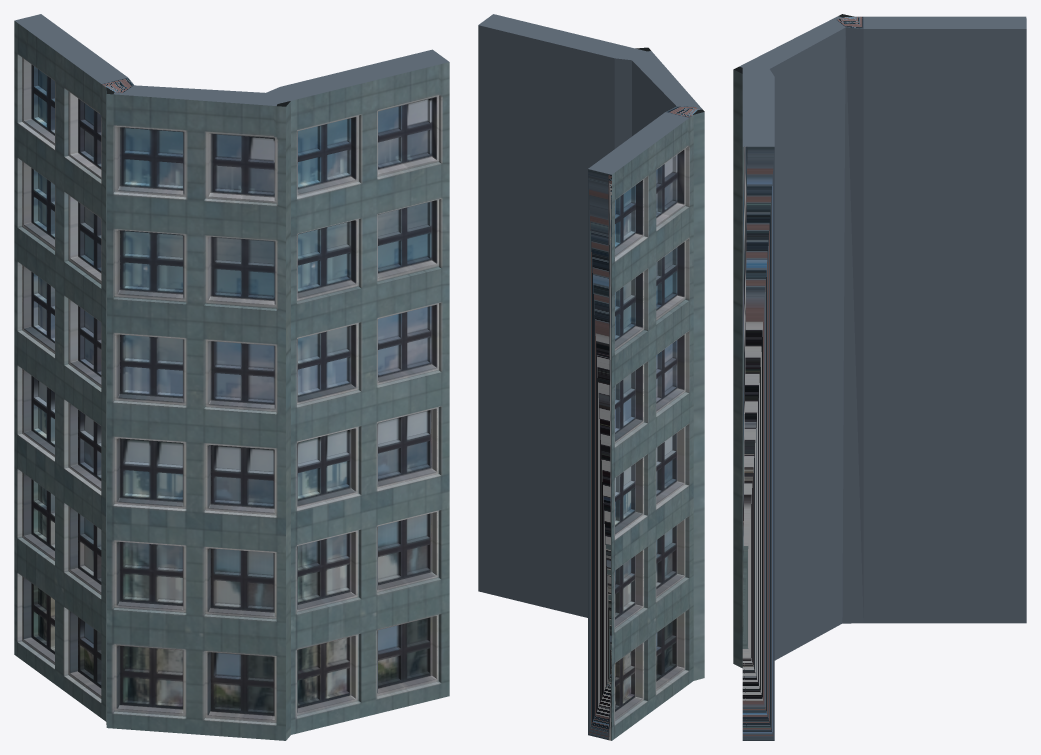
The model's file is facade_corner2.fbx.
The picture shows the model from 3 angles, left to right: view 1: azimuth 30°, elevation 25°; view 2: azimuth 150°, elevation 25°; view 3: azimuth 270°, elevation 25°; orthographic projection. The views are drawn at different scales.
Parts seen in each view (by area): view 1: facade_corner2; view 2: facade_corner2; view 3: facade_corner2.
Boxes of the visible parts, x1,y1,x2,y2 form: facade_corner2: (14,14,449,740); facade_corner2: (478,14,704,740); facade_corner2: (733,14,1026,740).
Bounding box in the file's own units: 45.97 × 96.12 × 42.94.
Materials: 2 (2 with a texture image).
